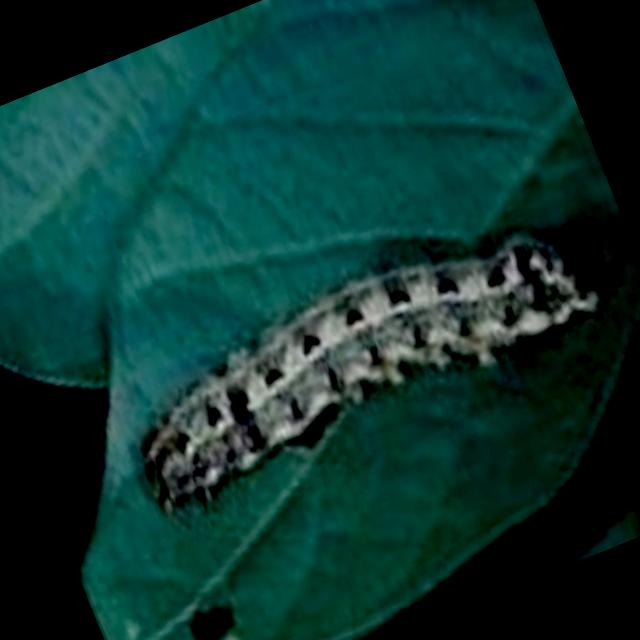Tobacco cutworm: (51, 129, 640, 604)
